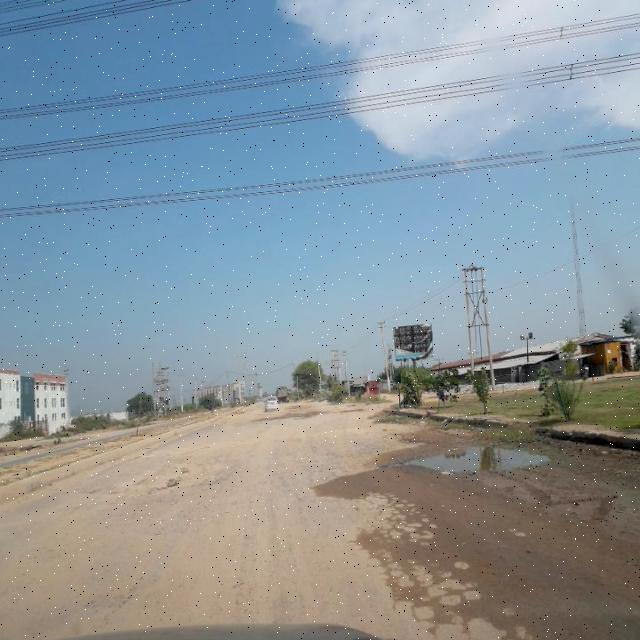D20: (341, 498, 559, 634)
